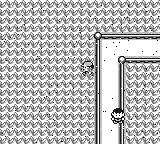captura: (1, 0, 160, 143), (126, 64, 160, 143)
main: (81, 62, 94, 72)
npc: (111, 109, 125, 123)
